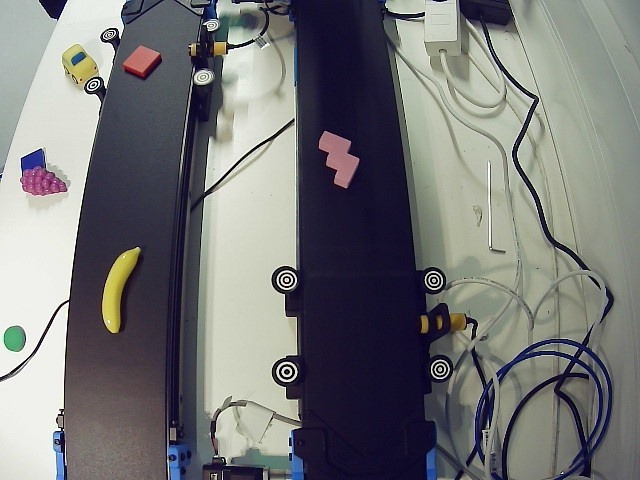Red_Square: (121, 43, 163, 78)
Unknown: (104, 246, 143, 334), (317, 128, 364, 191)
